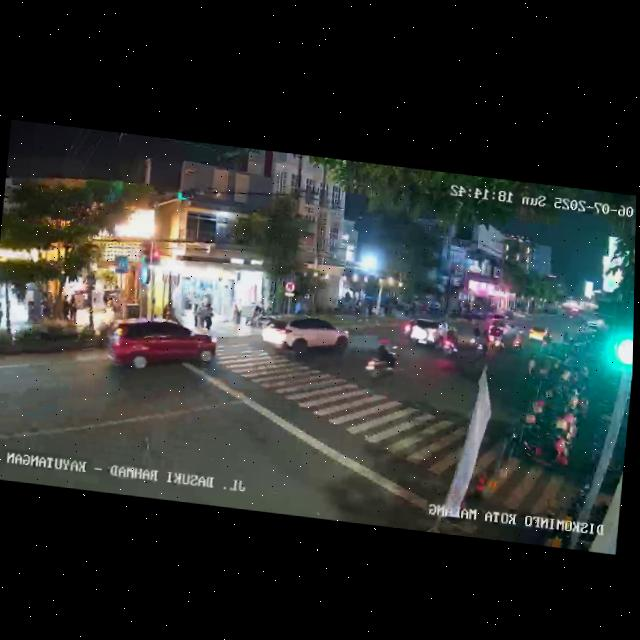car: (103, 312, 217, 383), (253, 309, 349, 365), (402, 314, 452, 351)
motorcycle: (361, 336, 400, 386), (433, 323, 460, 361), (473, 328, 492, 358)
person: (64, 292, 77, 324), (203, 300, 216, 331), (191, 297, 204, 328), (232, 297, 244, 325), (0, 300, 1, 328)
